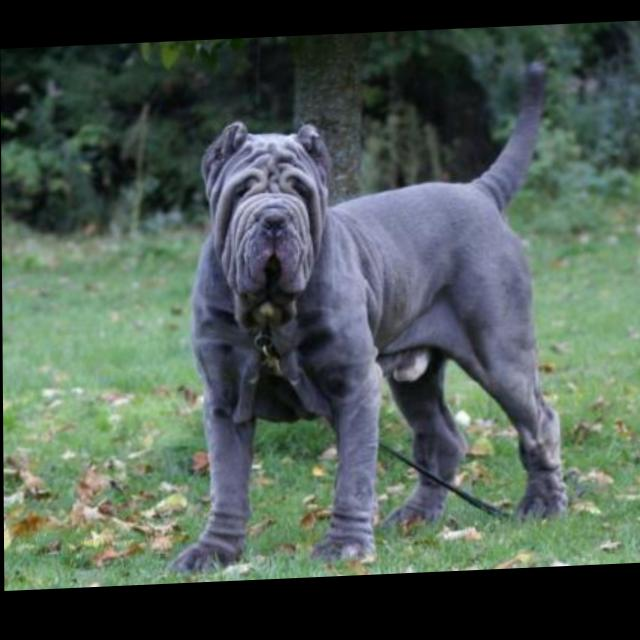mastino_napoletano: (162, 64, 571, 581)
